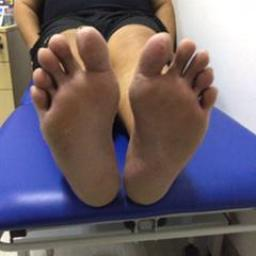Plantar View -Both Feet-: (16, 20, 224, 224)
